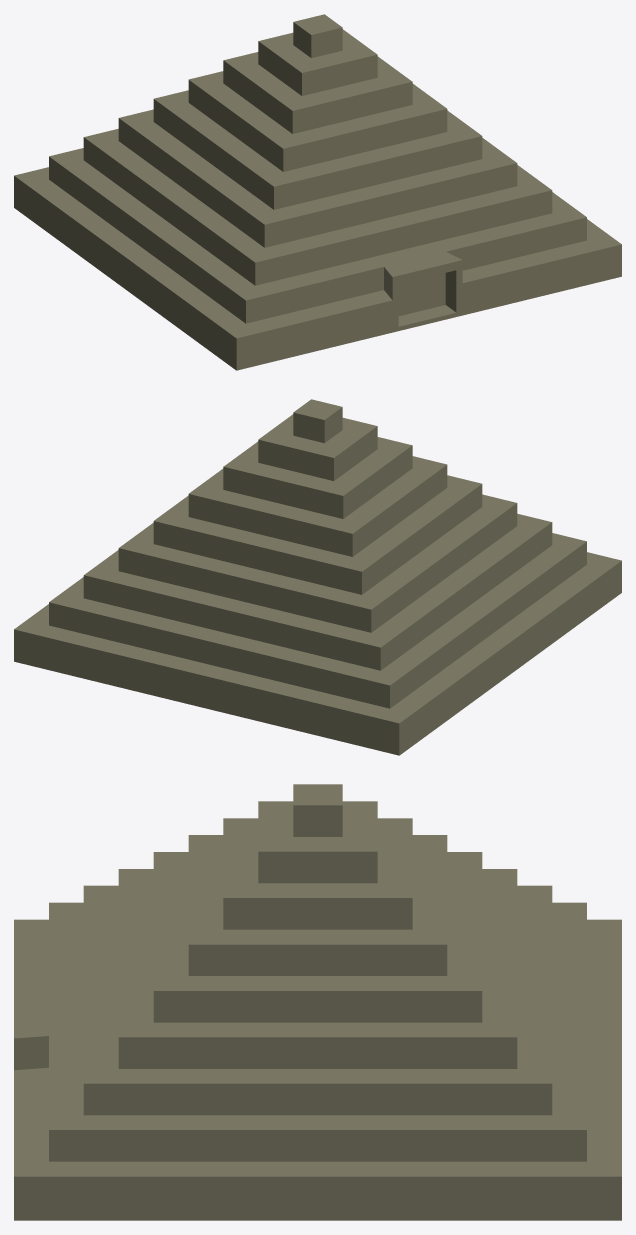
3 renders of one model, top to bottom at view 1: azimuth 30°, elevation 25°; view 2: azimuth 150°, elevation 25°; view 3: azimuth 270°, elevation 25°, orthographic. The views are drawn at different scales.
Parts seen in each view (by area): view 1: polySurface20; view 2: polySurface20; view 3: polySurface20.
Part boxes in pixels (box(x1,y1,x2,y2)): polySurface20: box(14, 14, 621, 370); polySurface20: box(14, 399, 621, 755); polySurface20: box(14, 784, 621, 1220).
Size of the model in its own units: 5.22 by 2.82 by 5.22.
